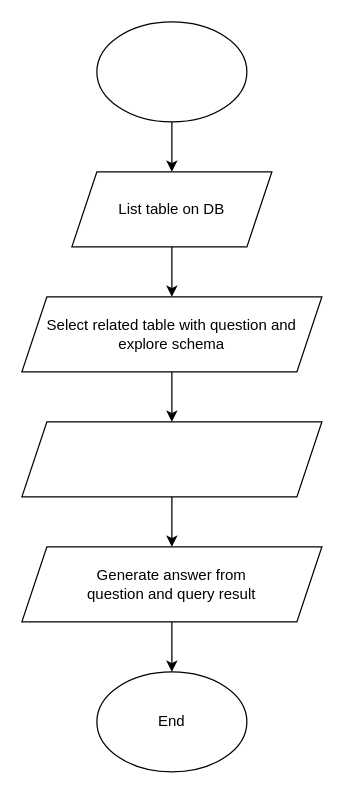
Some shapes in this 344 by 794 pixel diagram are drawn without their labels. The centre of each missing label's shape, as x and y in pixels:
"Query and get query result" goes at point 171,459.
"Start" goes at point 171,71.
